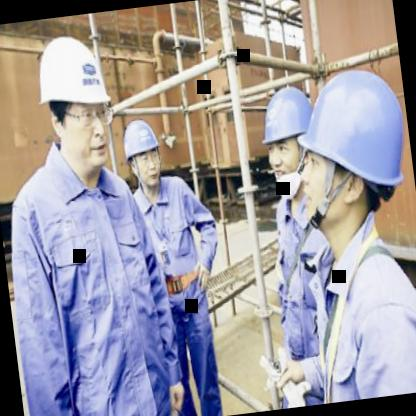helmet: (282, 49, 416, 246), (30, 34, 118, 178), (254, 80, 323, 188), (117, 110, 167, 193)
